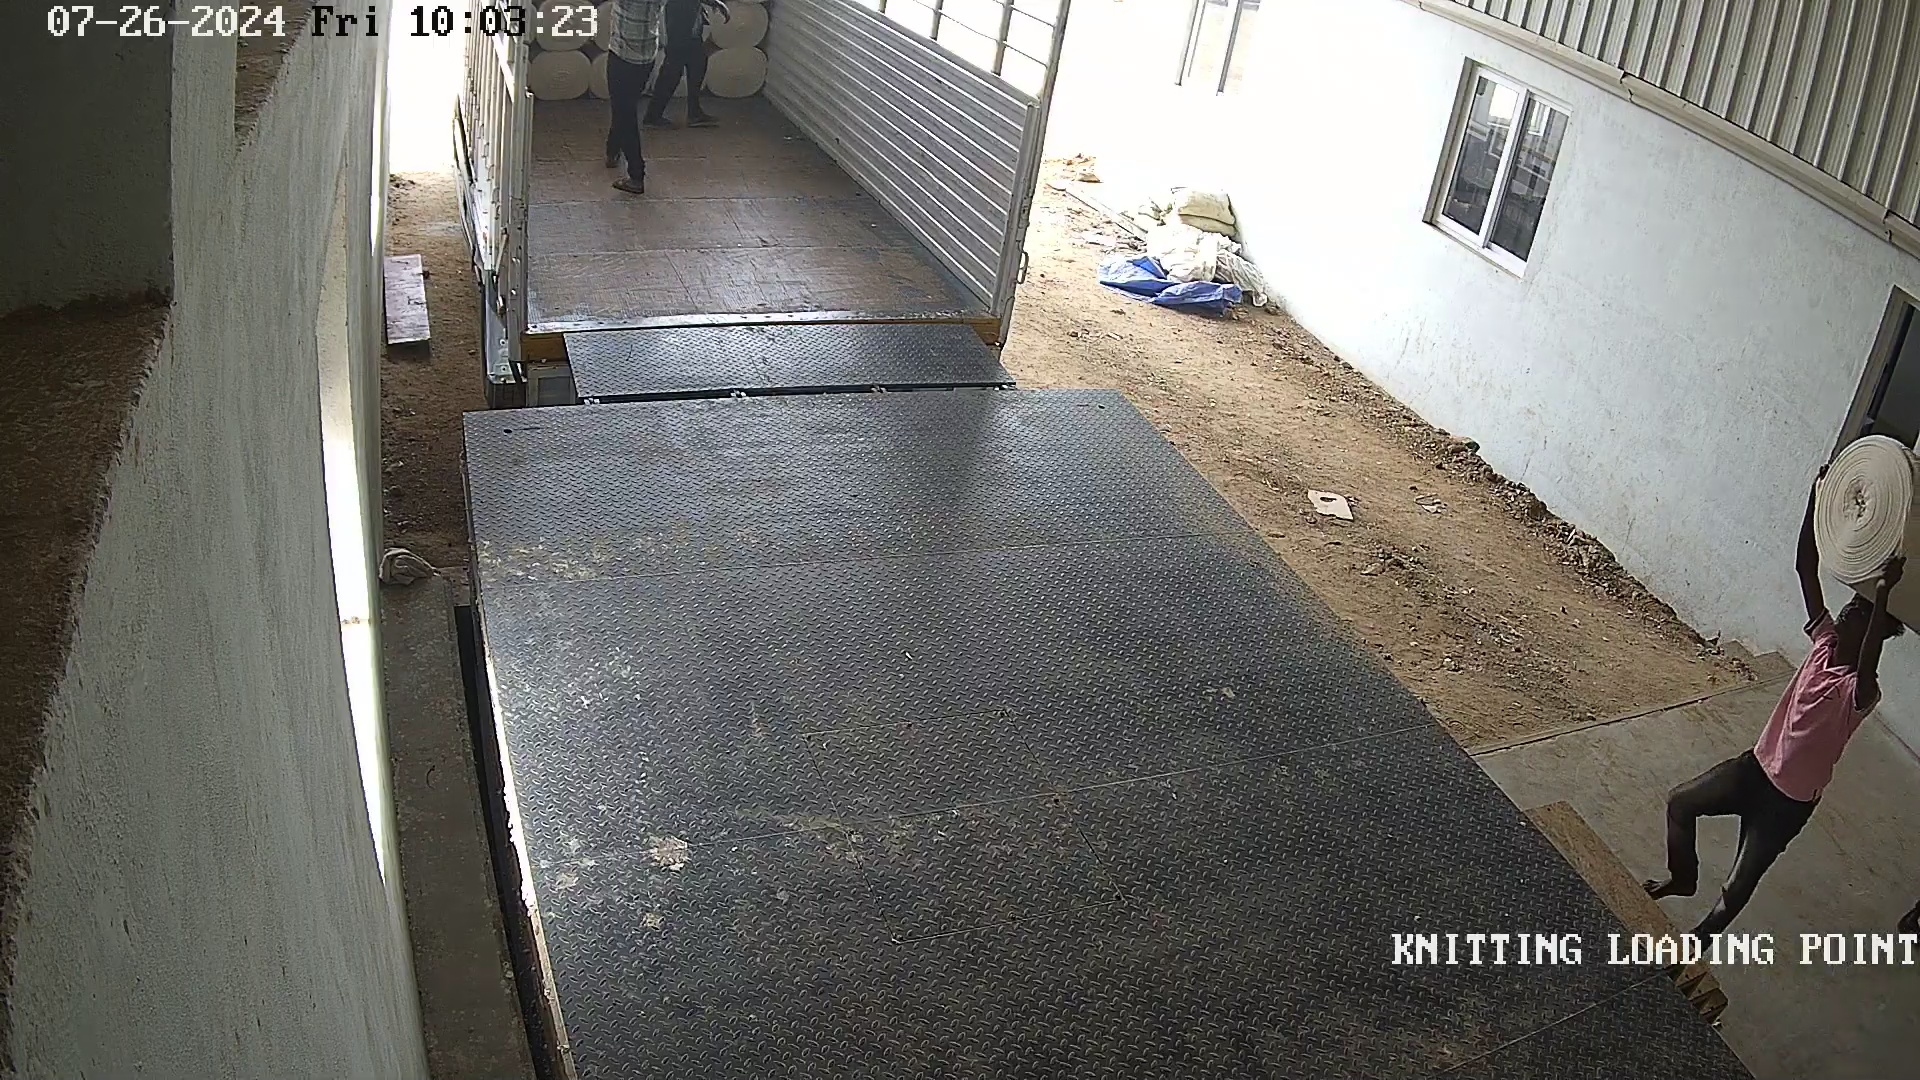bag: (1803, 425, 1920, 640)
